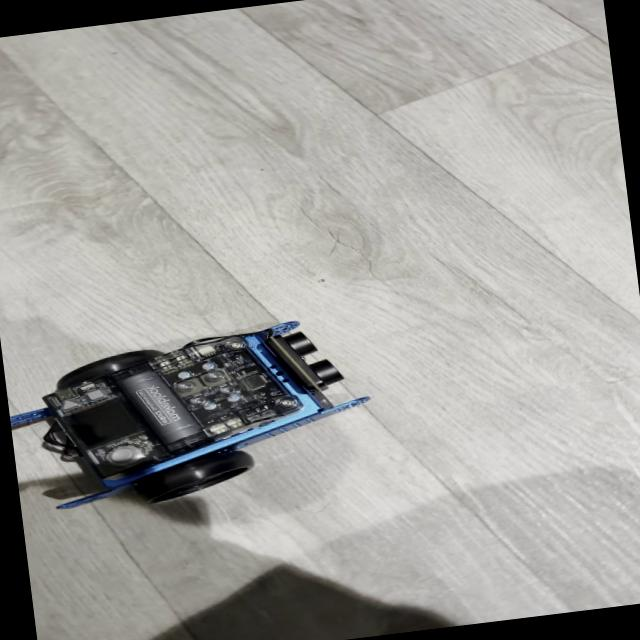mbot-detection: (0, 292, 385, 529)
